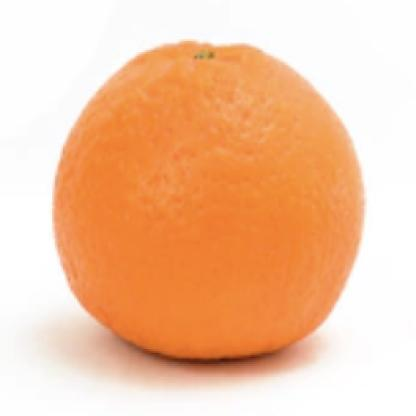fresh: (55, 41, 368, 362)
